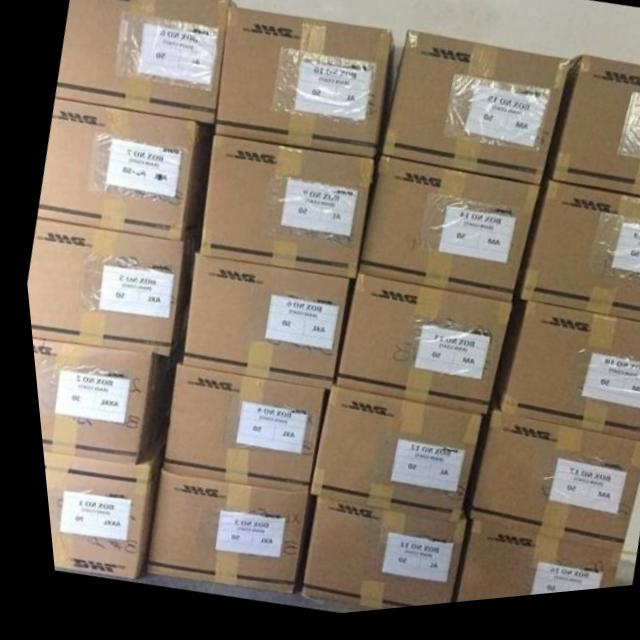box: (379, 37, 568, 195), (451, 413, 638, 564), (211, 12, 395, 165), (351, 163, 534, 311), (193, 138, 371, 285), (328, 280, 505, 422), (32, 101, 210, 242), (21, 219, 194, 357), (485, 301, 640, 454), (53, 0, 236, 126), (173, 258, 341, 395), (300, 395, 472, 521), (153, 368, 315, 498), (133, 472, 297, 594), (508, 186, 640, 334), (292, 493, 454, 613), (26, 339, 175, 467), (34, 440, 153, 580), (541, 65, 640, 208), (438, 528, 610, 610), (289, 591, 395, 616)
